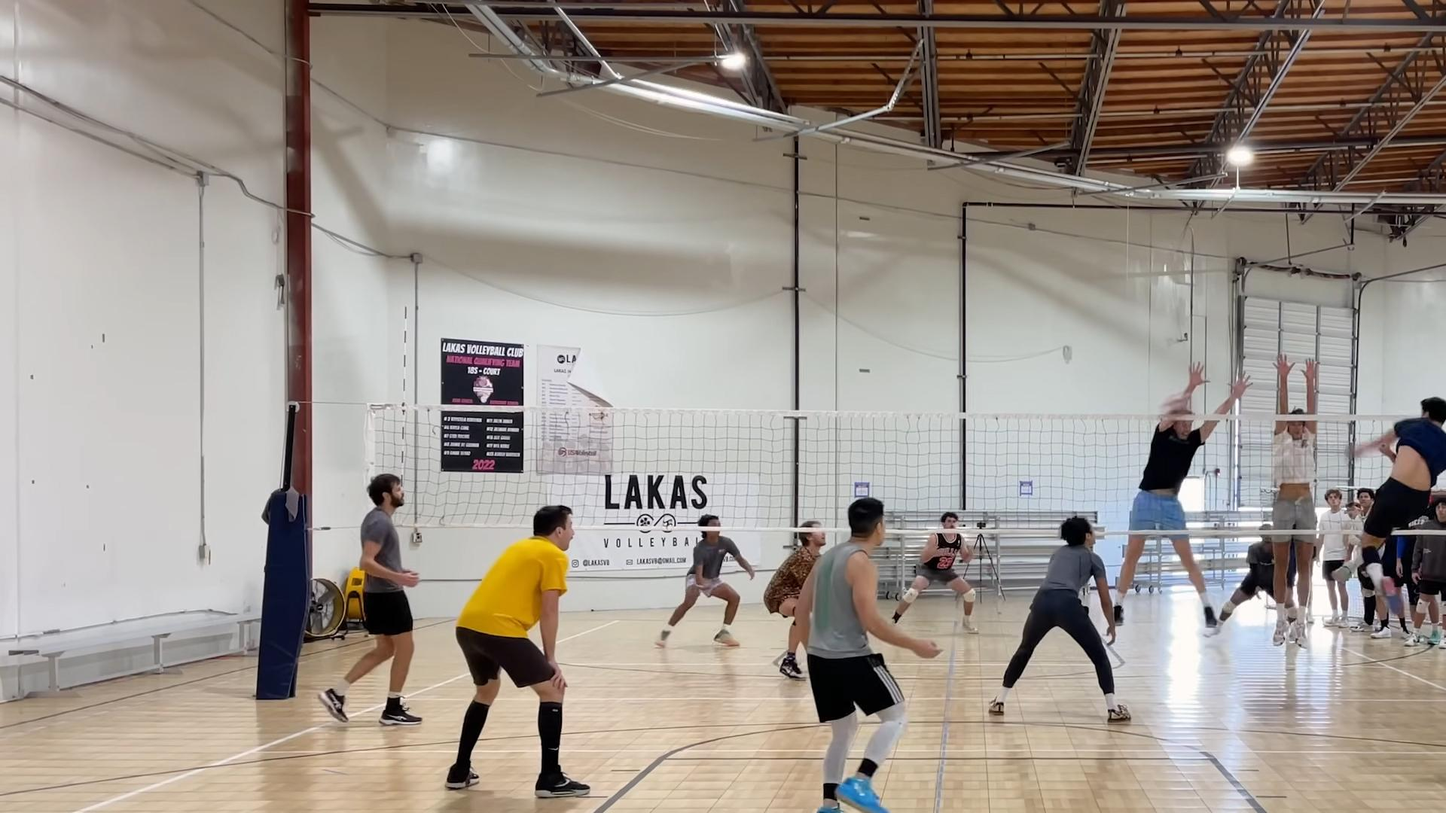attacco: (1328, 383, 1446, 602)
muro: (1105, 354, 1252, 640), (1264, 349, 1324, 662)
